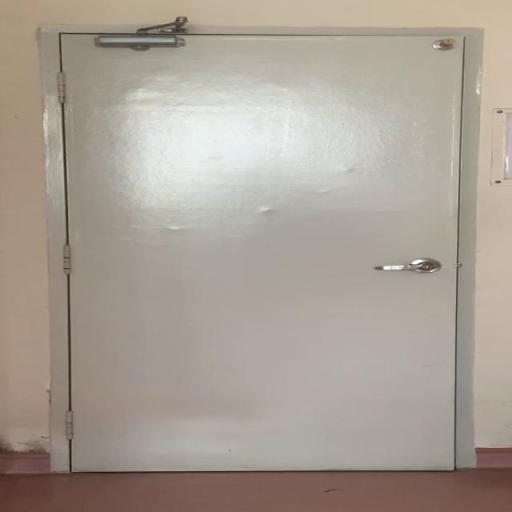door: (56, 30, 467, 472)
